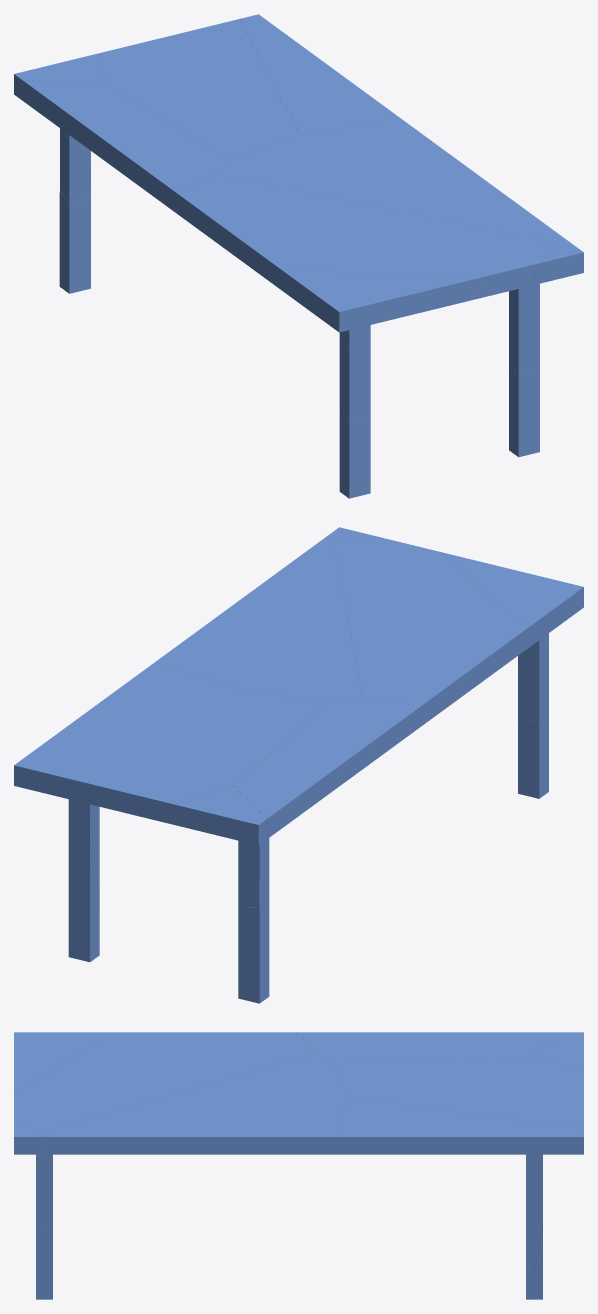
The model's file is diningtable broken.fbx.
The picture shows the model from 3 angles, top to bottom: view 1: azimuth 30°, elevation 25°; view 2: azimuth 150°, elevation 25°; view 3: azimuth 270°, elevation 25°; orthographic projection. The views are drawn at different scales.
Visible parts, largest first — view 1: Cube__10__cell.003, Cube__10__cell.007, Cube__10__cell.004, Cube__10__cell, Cube__10__cell.001, Cube__10__cell.006, Cube__9__cell.001, Cube__13__cell.002, Cube__12__cell, Cube__13__cell.001, Cube__12__cell.001, Cube__10__cell.002 (+2 smaller); view 2: Cube__10__cell.003, Cube__10__cell.004, Cube__10__cell.007, Cube__10__cell, Cube__10__cell.006, Cube__10__cell.001, Cube__10__cell.002, Cube__11__cell.001, Cube__9__cell.001, Cube__12__cell.001, Cube__12__cell, Cube__11__cell (+2 smaller); view 3: Cube__10__cell.007, Cube__10__cell.003, Cube__10__cell.004, Cube__10__cell.006, Cube__10__cell, Cube__10__cell.001, Cube__11__cell, Cube__10__cell.002, Cube__13__cell.001, Cube__13__cell.002, Cube__10__cell.005, Cube__11__cell.001.
Part boxes in pixels (x1,y1,x2,y2): Cube__10__cell.003: [177, 174, 558, 299]; Cube__10__cell.007: [216, 117, 568, 243]; Cube__10__cell.004: [99, 19, 299, 160]; Cube__10__cell: [21, 80, 228, 213]; Cube__10__cell.001: [282, 270, 483, 332]; Cube__10__cell.006: [240, 14, 398, 135]; Cube__9__cell.001: [59, 191, 90, 293]; Cube__13__cell.002: [509, 283, 539, 376]; Cube__12__cell: [339, 325, 370, 422]; Cube__13__cell.001: [509, 367, 539, 457]; Cube__12__cell.001: [339, 416, 370, 498]; Cube__10__cell.002: [14, 53, 106, 99]; Cube__10__cell.003: [333, 537, 529, 725]; Cube__10__cell.004: [33, 689, 327, 822]; Cube__10__cell.007: [155, 538, 362, 702]; Cube__10__cell: [233, 701, 422, 839]; Cube__10__cell.006: [14, 662, 241, 792]; Cube__10__cell.001: [440, 552, 583, 646]; Cube__10__cell.002: [167, 786, 267, 845]; Cube__11__cell.001: [68, 809, 99, 962]; Cube__9__cell.001: [238, 906, 269, 1003]; Cube__12__cell.001: [518, 716, 548, 798]; Cube__12__cell: [518, 642, 548, 722]; Cube__11__cell: [68, 799, 99, 907]; Cube__10__cell.007: [40, 1053, 347, 1154]; Cube__10__cell.003: [14, 1032, 315, 1132]; Cube__10__cell.004: [335, 1057, 583, 1128]; Cube__10__cell.006: [337, 1097, 583, 1154]; Cube__10__cell: [297, 1032, 567, 1063]; Cube__10__cell.001: [14, 1032, 113, 1093]; Cube__11__cell: [526, 1154, 542, 1299]; Cube__10__cell.002: [525, 1032, 583, 1068]; Cube__13__cell.001: [36, 1225, 52, 1299]; Cube__13__cell.002: [36, 1154, 52, 1226]; Cube__10__cell.005: [14, 1119, 44, 1154]; Cube__11__cell.001: [529, 1224, 542, 1299].
Bounding box in the file's own units: 628 × 1447 × 494.
